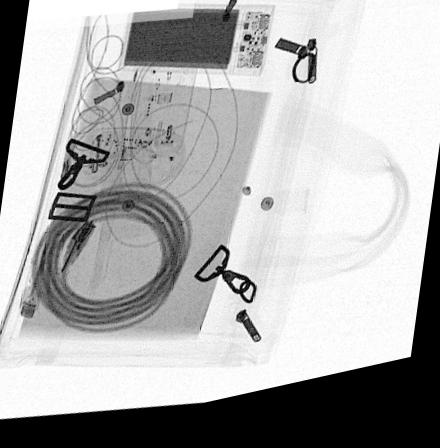Powerbank: (117, 11, 274, 87)
